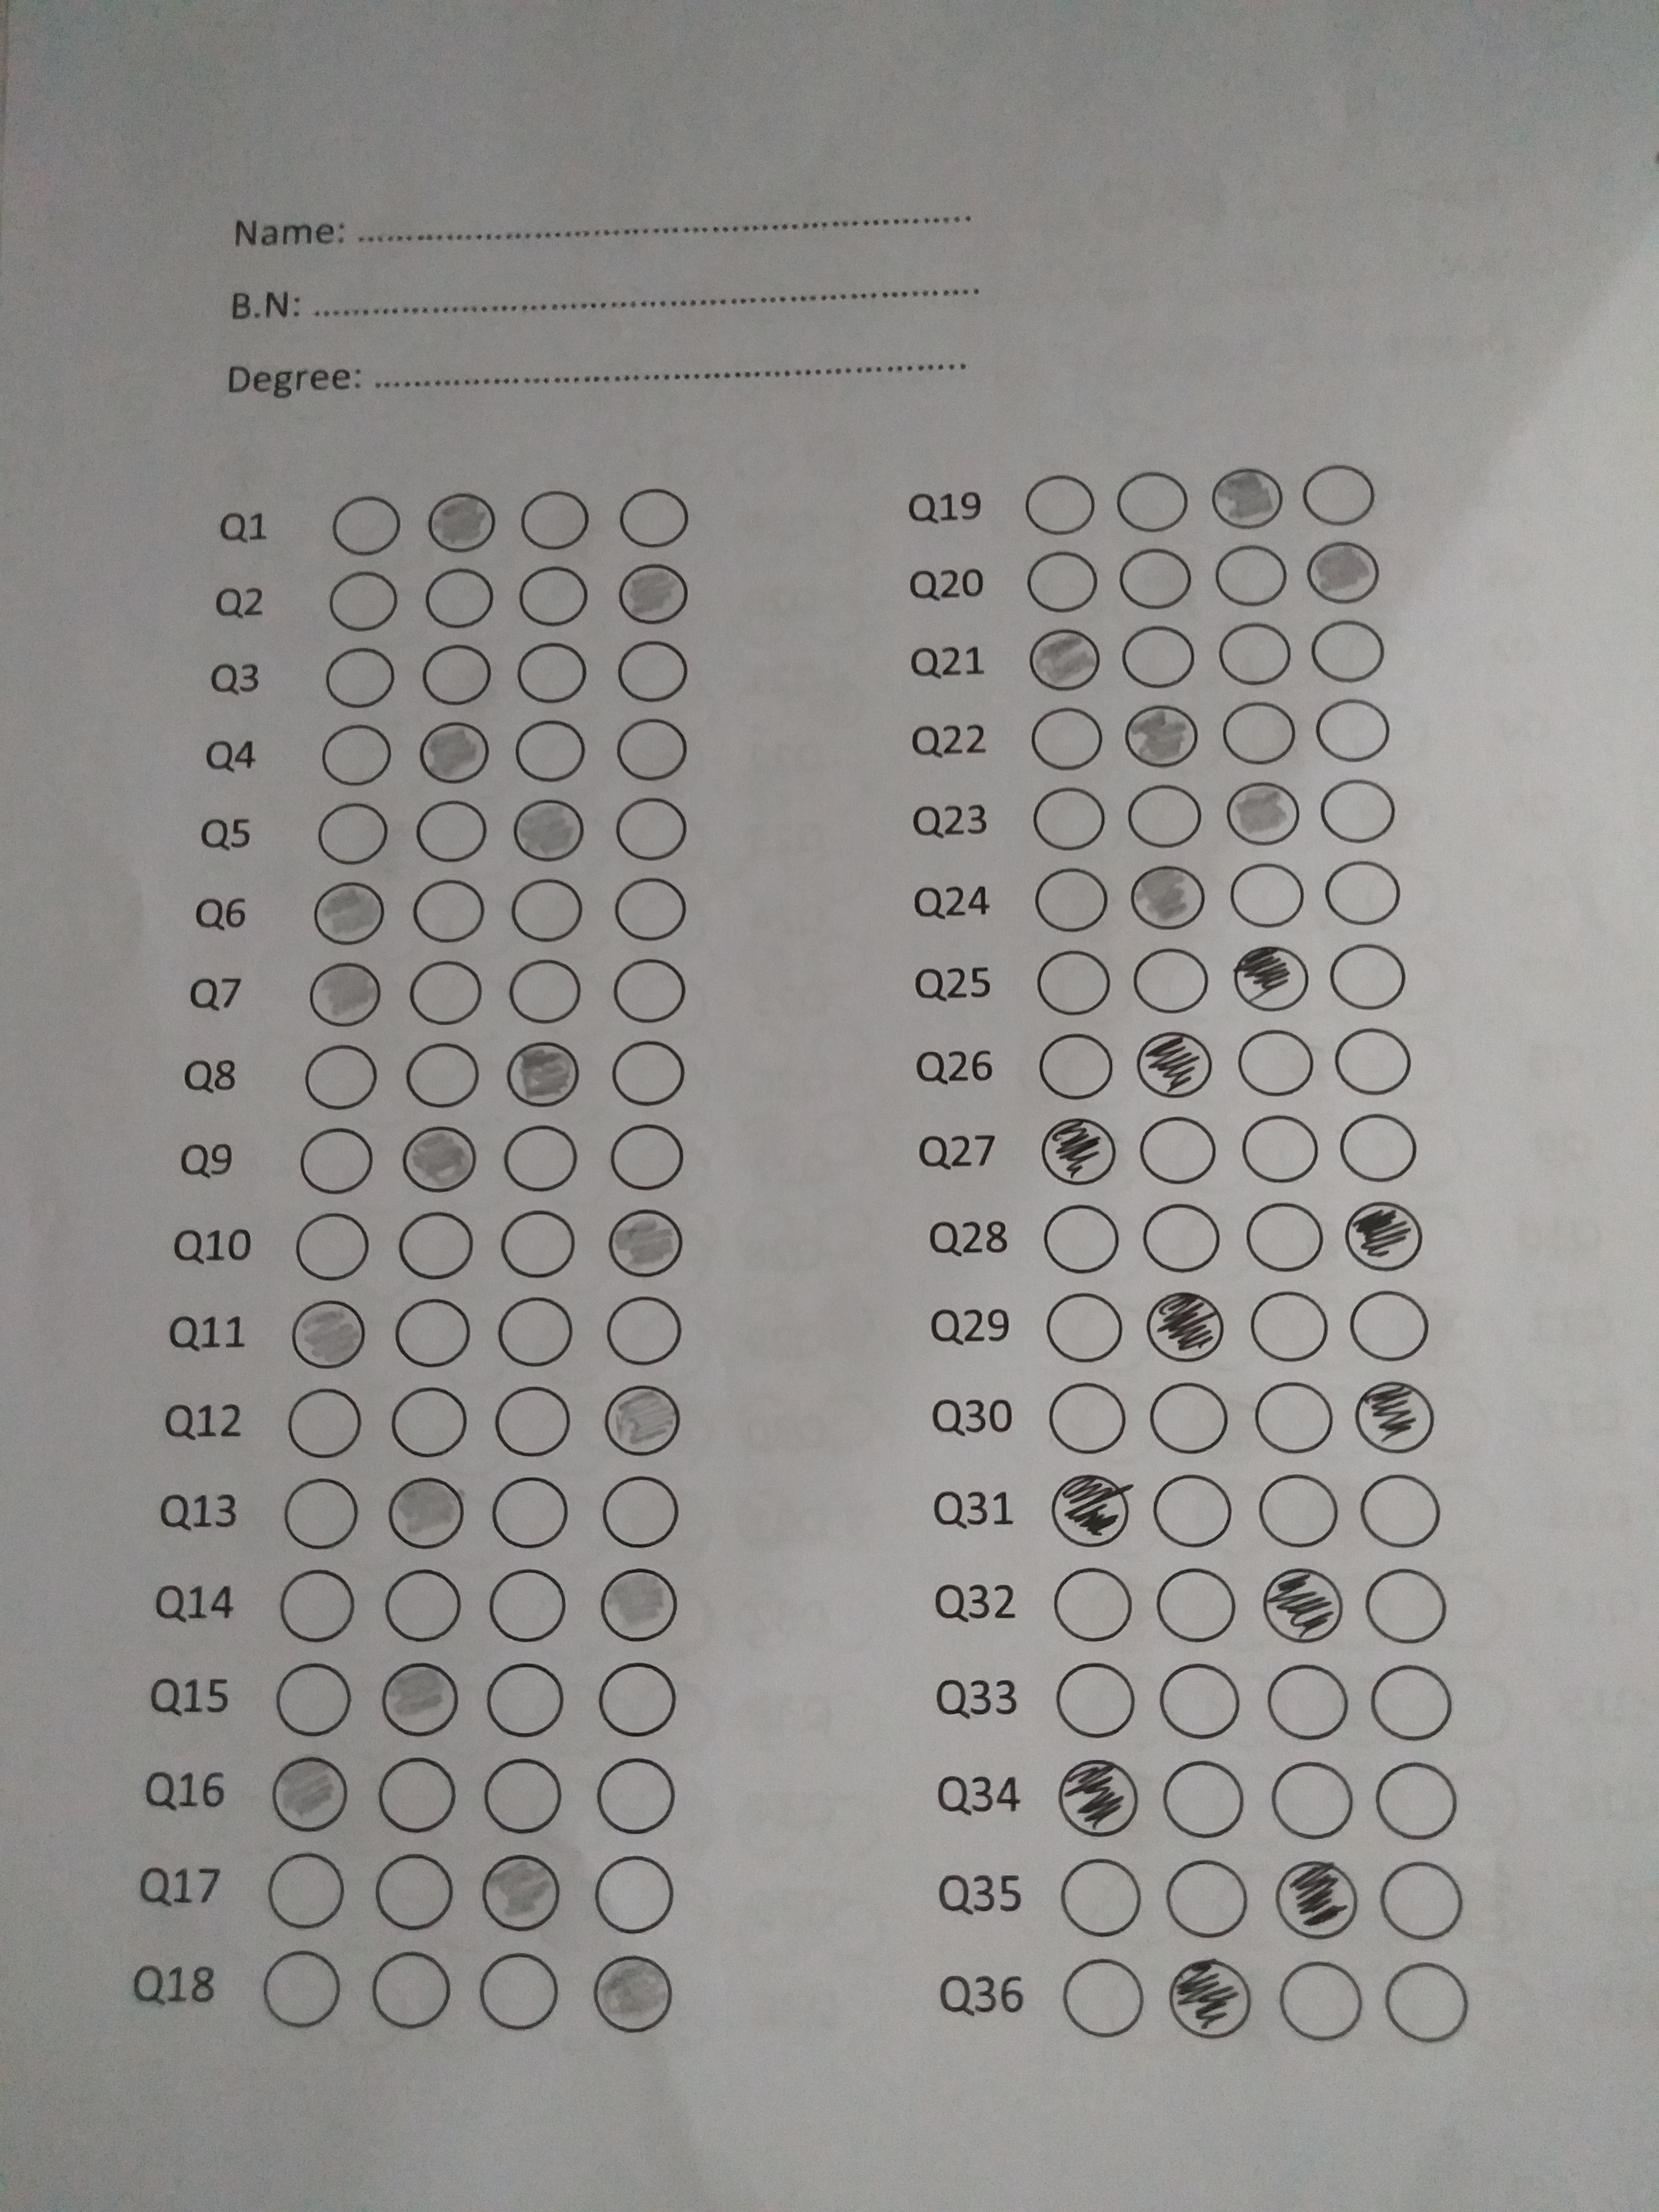not-c: (1352, 1474, 1443, 1555), (1150, 1472, 1241, 1554), (1363, 1564, 1453, 1646), (1368, 1759, 1459, 1841), (1385, 1961, 1476, 2043), (256, 1947, 347, 2029), (486, 1564, 577, 1646), (490, 1379, 580, 1461), (274, 1474, 364, 1555), (599, 1292, 690, 1374), (1342, 1289, 1431, 1371), (1253, 1381, 1342, 1463), (1253, 1475, 1342, 1557), (1154, 1564, 1243, 1646), (1049, 1566, 1138, 1648), (1368, 1665, 1457, 1747), (1265, 1662, 1354, 1743), (1154, 1660, 1243, 1742), (1053, 1658, 1141, 1740), (1161, 1757, 1249, 1839), (1263, 1756, 1352, 1838), (1377, 1855, 1466, 1937), (1272, 1958, 1361, 2040), (1162, 1857, 1251, 1939), (1053, 1855, 1141, 1937), (1058, 1952, 1147, 2034), (479, 1954, 568, 2036), (368, 1952, 457, 2034), (261, 1850, 350, 1932), (375, 1855, 464, 1937), (592, 1857, 681, 1939), (591, 1756, 680, 1838), (596, 1663, 685, 1745), (486, 1662, 575, 1743), (483, 1757, 572, 1839), (376, 1752, 465, 1834), (272, 1658, 361, 1740), (274, 1564, 362, 1646), (375, 1573, 464, 1655), (491, 1470, 580, 1552), (601, 1475, 690, 1557), (380, 1381, 469, 1463), (282, 1383, 371, 1465), (389, 1291, 477, 1372), (497, 1291, 586, 1372), (495, 1204, 584, 1285), (394, 1202, 483, 1284), (291, 1207, 380, 1289), (497, 1115, 586, 1197), (603, 1116, 692, 1198), (293, 1123, 376, 1198), (324, 493, 406, 561), (512, 488, 594, 556), (298, 1043, 380, 1111), (1115, 543, 1197, 611), (1216, 700, 1298, 768), (1122, 780, 1204, 848), (1127, 949, 1209, 1017), (613, 484, 694, 552), (514, 561, 594, 629), (321, 568, 401, 636), (416, 643, 497, 711), (612, 641, 692, 709), (612, 718, 692, 786), (512, 718, 592, 786), (314, 719, 394, 787), (307, 803, 387, 871), (410, 798, 490, 866), (610, 796, 690, 864), (608, 876, 688, 944), (505, 880, 586, 948), (406, 876, 486, 944), (408, 958, 488, 1026), (610, 958, 690, 1026), (610, 1038, 690, 1106), (408, 1040, 488, 1108), (1023, 470, 1103, 538), (1110, 465, 1190, 533), (1303, 460, 1384, 528), (1211, 542, 1291, 610), (1121, 622, 1201, 690), (1213, 618, 1293, 686), (1310, 620, 1391, 688), (1028, 784, 1108, 852), (1223, 859, 1303, 927), (1324, 859, 1405, 927), (1328, 944, 1408, 1012), (1035, 949, 1115, 1017), (1239, 1028, 1319, 1096), (1337, 1028, 1417, 1096), (1243, 1113, 1323, 1181), (1039, 1205, 1119, 1273), (1145, 1205, 1225, 1273), (1244, 1204, 1324, 1271), (1248, 1294, 1328, 1362), (1042, 1294, 1122, 1362), (1147, 1385, 1227, 1453), (418, 566, 498, 632), (319, 644, 399, 711), (509, 639, 589, 705), (307, 961, 387, 1028), (505, 961, 586, 1028), (1019, 547, 1100, 613), (1316, 698, 1396, 765), (1028, 704, 1108, 770), (1032, 867, 1112, 934), (1317, 780, 1398, 846), (1040, 1033, 1121, 1099), (1337, 1115, 1417, 1181), (1140, 1120, 1220, 1186), (1049, 1385, 1129, 1451)
taken-c: (596, 1381, 687, 1463), (378, 1470, 469, 1552), (375, 1658, 465, 1740), (1351, 1379, 1441, 1461), (476, 1851, 566, 1933), (1166, 1958, 1256, 2040), (1053, 1754, 1141, 1836), (1140, 1285, 1229, 1367), (286, 1294, 375, 1376), (594, 1562, 683, 1644), (589, 1951, 678, 2033), (265, 1752, 354, 1834), (1270, 1858, 1359, 1940), (1260, 1564, 1349, 1646), (1046, 1470, 1134, 1552), (601, 1202, 687, 1278), (301, 956, 385, 1031), (500, 1035, 584, 1109), (1222, 775, 1305, 850), (1344, 1198, 1425, 1273), (394, 1120, 477, 1193), (1127, 860, 1211, 934), (1230, 941, 1314, 1014), (307, 876, 390, 949), (1117, 697, 1201, 770), (1037, 1113, 1119, 1186), (1131, 1029, 1213, 1103), (411, 718, 491, 789), (1026, 622, 1103, 693), (1303, 538, 1384, 606), (420, 488, 500, 556), (505, 796, 587, 862), (1209, 460, 1284, 529), (615, 561, 690, 627)
